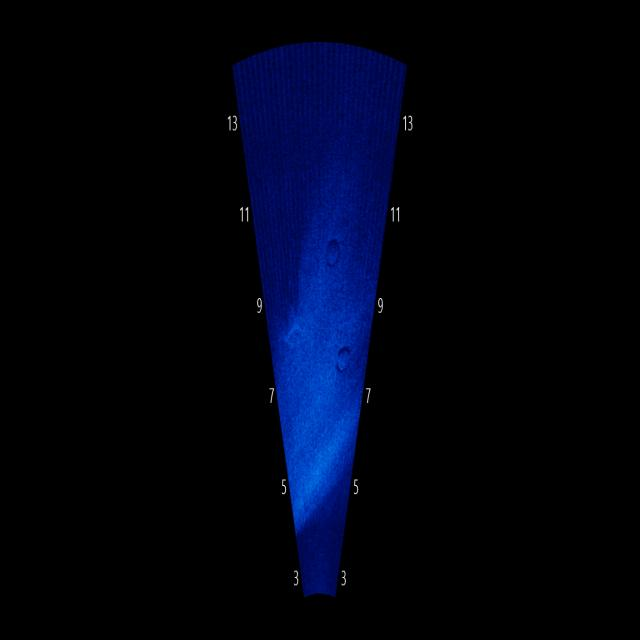square: (275, 290, 315, 362)
